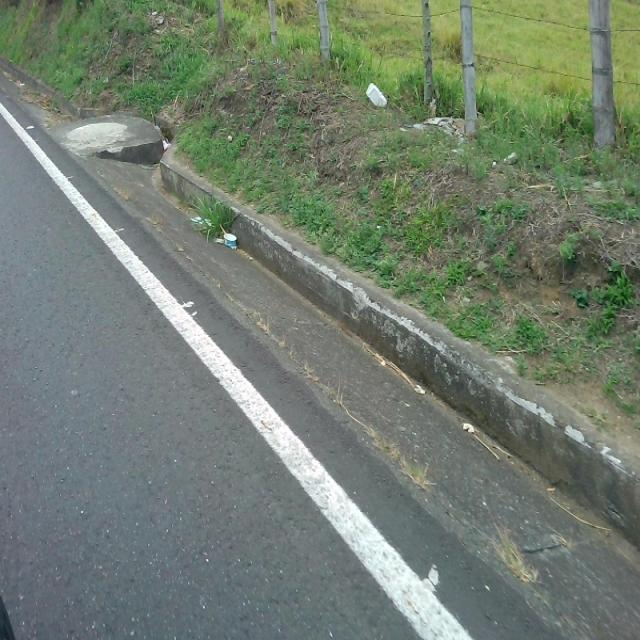DITCH: (2, 1, 638, 638), (2, 58, 638, 639), (1, 68, 638, 638)
